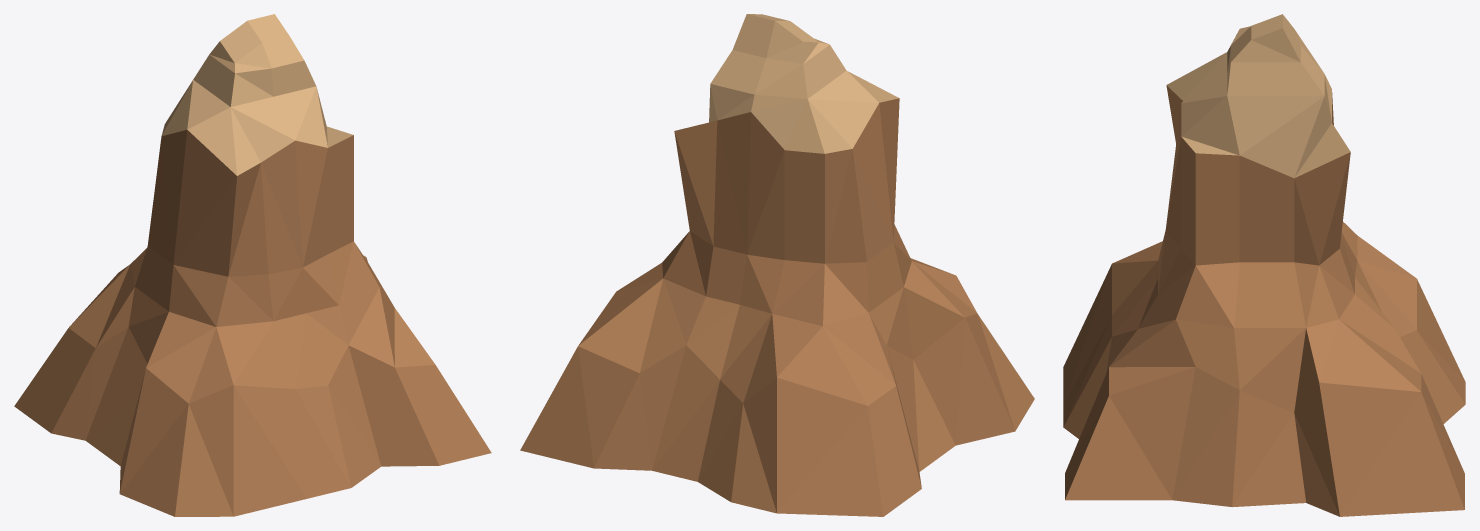
Rendered from Rock_2.fbx.
3 views of the same model, side by side, from view 1: azimuth 30°, elevation 25°; view 2: azimuth 150°, elevation 25°; view 3: azimuth 270°, elevation 25° (orthographic). The views are drawn at different scales.
Visible parts, largest first — view 1: Rock_2; view 2: Rock_2; view 3: Rock_2.
Boxes of the visible parts, x1,y1,x2,y2 form: Rock_2: [14, 14, 491, 516]; Rock_2: [520, 14, 1034, 516]; Rock_2: [1063, 14, 1465, 516].
Size of the model in its own units: 304 by 283 by 321.
